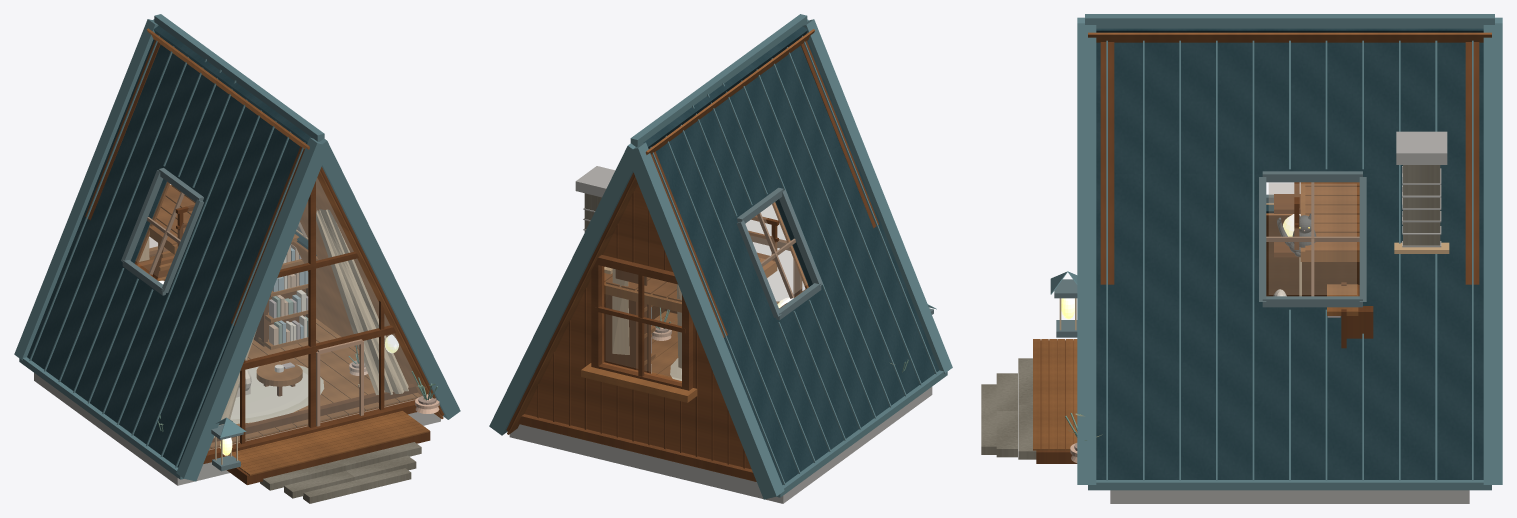
Rendered from MiFiL_Aframe_Dream_House_v1.glb.
3 renders of one model, left to right at view 1: azimuth 30°, elevation 25°; view 2: azimuth 150°, elevation 25°; view 3: azimuth 270°, elevation 25°, orthographic. The views are drawn at different scales.
Parts seen in each view (by area): view 1: roof_panels__roof_slate, PROJECT_livemo_glass__glass, roof_fascia__roof_trim, roof_seams__roof_trim, roof_underlay__interior_wood, porch_planks__oak, steps__stone, PROJECT_livemo_mullions__walnut, curtains__linen, floor_planks__oak, gable_frames__walnut, PROJECT_playable_letter_frame__metal_black (+19 smaller); view 2: roof_panels__roof_slate, roof_fascia__roof_trim, rear_gable__cedar, roof_seams__roof_trim, PROJECT_feel_glass__glass_warm, base__stone_dark, gable_frames__walnut, roof_underlay__interior_wood, PROJECT_feel_frame__walnut, rear_board_seams__walnut, PROJECT_playable_letter_frame__metal_black, roof_ridge__roof_trim (+13 smaller); view 3: roof_panels__roof_slate, roof_fascia__roof_trim, roof_seams__roof_trim, PROJECT_our_quest_glass__glass_warm, roof_underlay__interior_wood, gable_frames__walnut, roof_ridge__roof_trim, base__stone_dark, porch_planks__oak, steps__stone, roof_eaves__roof_trim, PROJECT_our_quest_frame__metal_black (+10 smaller).
Boxes of the visible parts, box(x1,y1,x2,y2) form: roof_panels__roof_slate: box(27, 25, 316, 467); PROJECT_livemo_glass__glass: box(209, 178, 422, 448); roof_fascia__roof_trim: box(14, 19, 460, 481); roof_seams__roof_trim: box(29, 35, 305, 467); roof_underlay__interior_wood: box(134, 28, 443, 418); porch_planks__oak: box(222, 411, 429, 475); steps__stone: box(260, 442, 421, 503); PROJECT_livemo_mullions__walnut: box(240, 181, 396, 443); curtains__linen: box(214, 209, 408, 437); floor_planks__oak: box(209, 318, 421, 449); gable_frames__walnut: box(85, 37, 416, 463); PROJECT_playable_letter_frame__metal_black: box(121, 168, 203, 295); roof_panels__roof_slate: box(643, 26, 939, 484); roof_fascia__roof_trim: box(489, 19, 952, 499); rear_gable__cedar: box(519, 184, 756, 481); roof_seams__roof_trim: box(650, 36, 937, 484); PROJECT_feel_glass__glass_warm: box(606, 267, 681, 378); base__stone_dark: box(509, 387, 932, 503); gable_frames__walnut: box(518, 36, 878, 481); roof_underlay__interior_wood: box(507, 29, 814, 434); PROJECT_feel_frame__walnut: box(591, 255, 692, 390); rear_board_seams__walnut: box(537, 191, 745, 468); PROJECT_playable_letter_frame__metal_black: box(736, 187, 822, 320); roof_ridge__roof_trim: box(630, 14, 807, 146); roof_panels__roof_slate: box(1096, 28, 1483, 479); roof_fascia__roof_trim: box(1077, 17, 1502, 484); roof_seams__roof_trim: box(1106, 40, 1473, 480); PROJECT_our_quest_glass__glass_warm: box(1269, 184, 1356, 294); roof_underlay__interior_wood: box(1088, 32, 1491, 296); gable_frames__walnut: box(1100, 42, 1479, 284); roof_ridge__roof_trim: box(1085, 14, 1494, 28); base__stone_dark: box(1110, 490, 1469, 503); porch_planks__oak: box(1033, 339, 1077, 450); steps__stone: box(981, 358, 1036, 459); roof_eaves__roof_trim: box(1088, 480, 1491, 490); PROJECT_our_quest_frame__metal_black: box(1259, 171, 1366, 307).
Size of the model in its own units: 5.26 by 5.92 by 6.84.
Materials: 38 (7 with a texture image).
